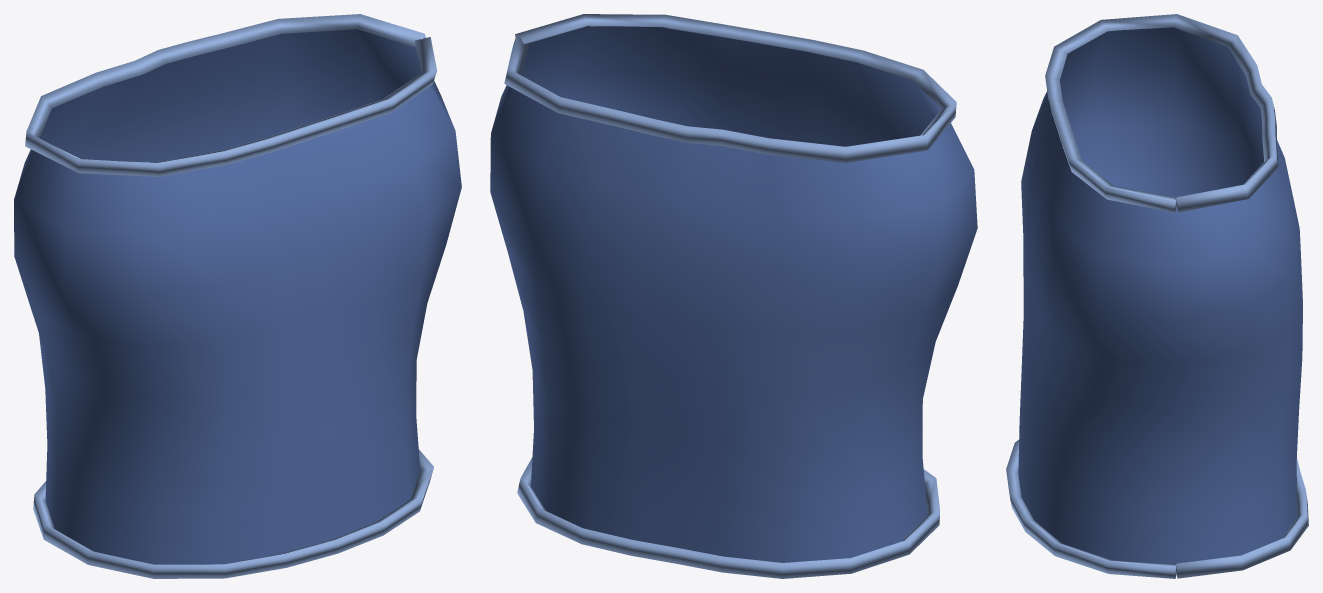
File: spectre_armor_chest.glb
3 views of the same model, side by side, from view 1: azimuth 30°, elevation 25°; view 2: azimuth 150°, elevation 25°; view 3: azimuth 270°, elevation 25° (orthographic). The views are drawn at different scales.
Parts seen in each view (by area): view 1: spectre_armor_chest; view 2: spectre_armor_chest; view 3: spectre_armor_chest.
Part boxes in pixels (x1,y1,x2,y2): spectre_armor_chest: (14, 14, 461, 578); spectre_armor_chest: (490, 14, 977, 578); spectre_armor_chest: (1006, 14, 1308, 578).
Bounding box in the file's own units: 0.4168 × 0.3859 × 0.2708.
